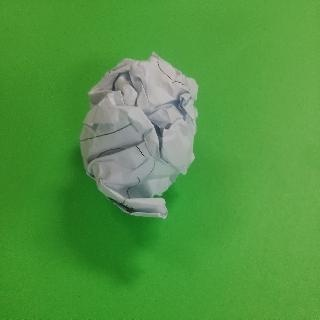8/可回收垃圾/纸: (79, 51, 199, 219)
